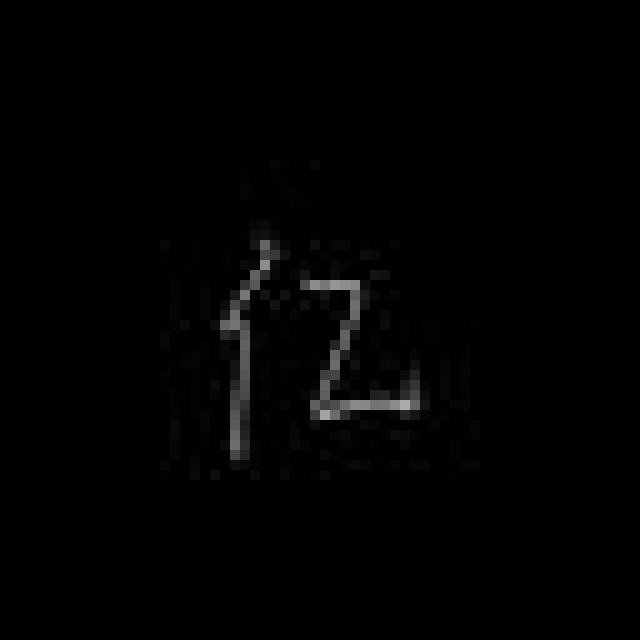100000 -a hundred thousand-: (212, 229, 429, 466)
